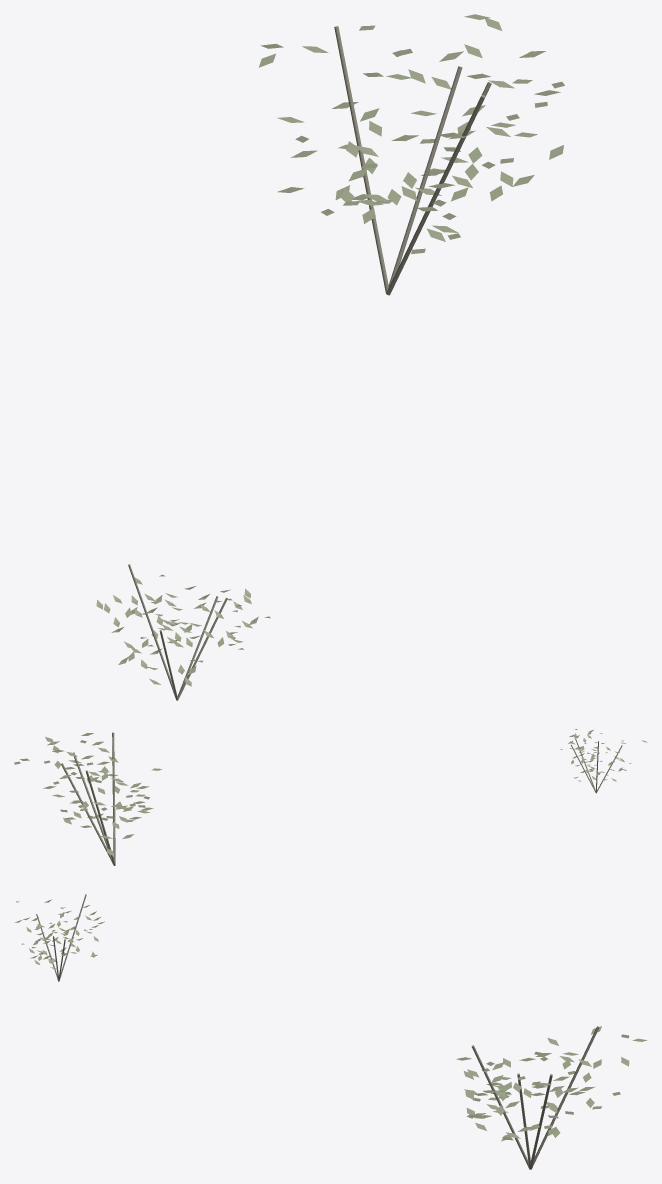
Rendered from AE_Shrubs_2_-1.fbx.
The picture shows the model from 3 angles, top to bottom: view 1: azimuth 30°, elevation 25°; view 2: azimuth 150°, elevation 25°; view 3: azimuth 270°, elevation 25°; orthographic projection. The views are drawn at different scales.
Visible parts, largest first — view 1: AE_Shrubs_2_-1_LOD0; view 2: AE_Shrubs_2_-1_LOD0; view 3: AE_Shrubs_2_-1_LOD0.
Part boxes in pixels (bbox=[...]): AE_Shrubs_2_-1_LOD0: bbox=[96, 14, 564, 700]; AE_Shrubs_2_-1_LOD0: bbox=[14, 729, 647, 865]; AE_Shrubs_2_-1_LOD0: bbox=[14, 894, 647, 1169].
Size of what is drawn, in the model's own units: 521 by 140 by 561.
